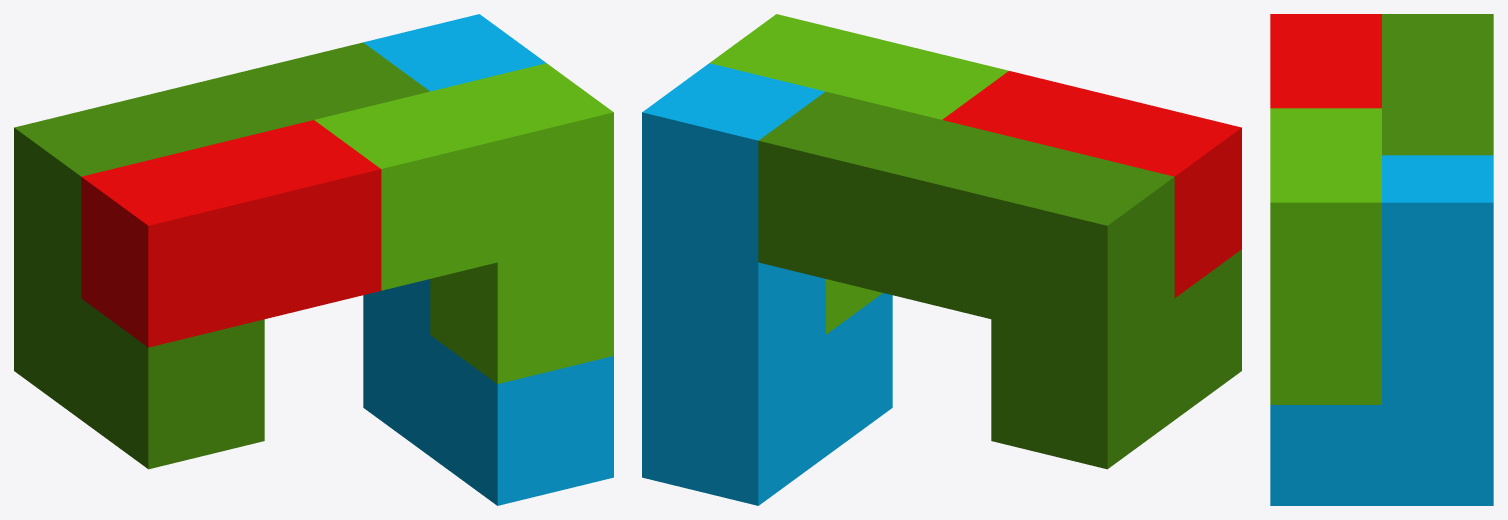
3 views of the same model, side by side, from view 1: azimuth 30°, elevation 25°; view 2: azimuth 150°, elevation 25°; view 3: azimuth 270°, elevation 25° (orthographic). The views are drawn at different scales.
Visible parts, largest first — view 1: mergedBlocks(Clone); view 2: mergedBlocks(Clone); view 3: mergedBlocks(Clone).
Part boxes in pixels (x1=…): mergedBlocks(Clone): x1=14, y1=14, x2=613, y2=505; mergedBlocks(Clone): x1=642, y1=14, x2=1241, y2=505; mergedBlocks(Clone): x1=1270, y1=14, x2=1493, y2=505.
Size of the model in its own units: 4 by 3 by 2.
4 materials, 4 textured.
